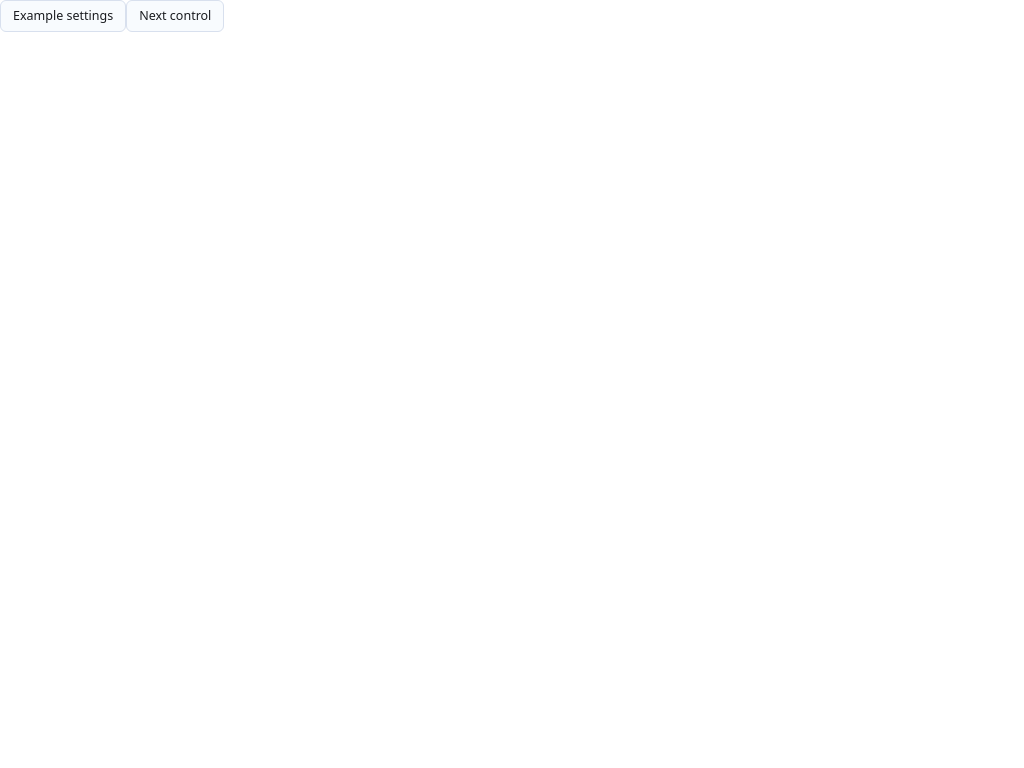
Test case: opens on a press of its trigger and is a dialog named by its title
Step 1. Click the button "Example settings" → point(63, 16), box [0, 0, 126, 32]
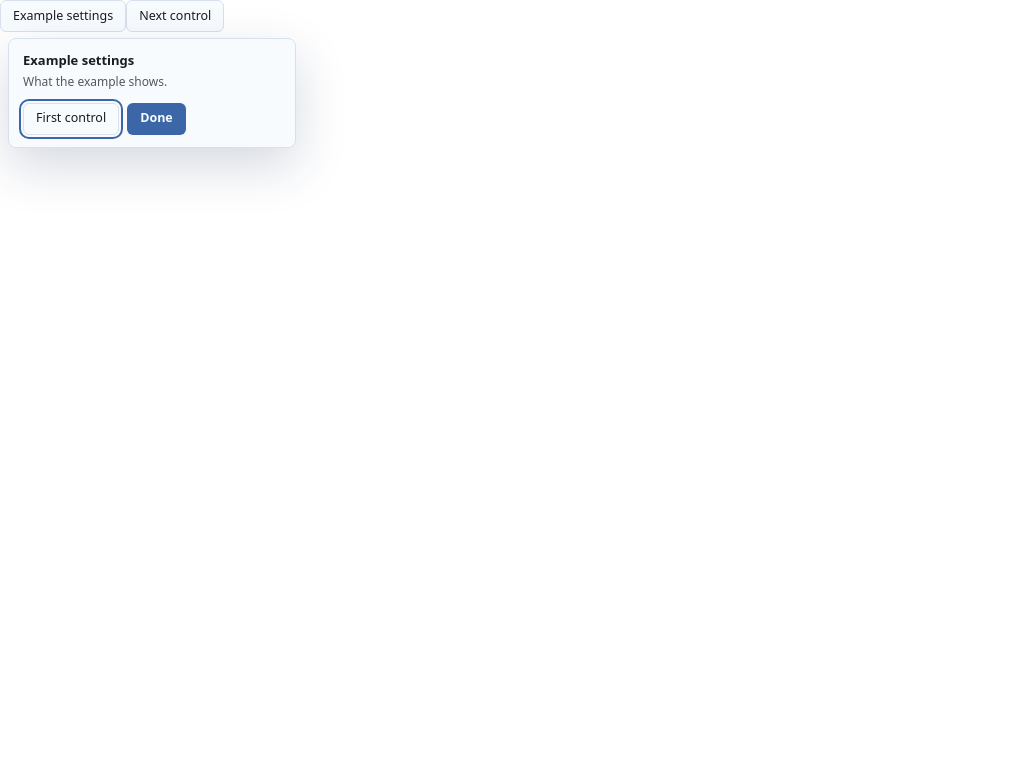
Expected: the dialog "Example settings What the example shows. First control Done" is shown, [8, 38, 296, 148]
